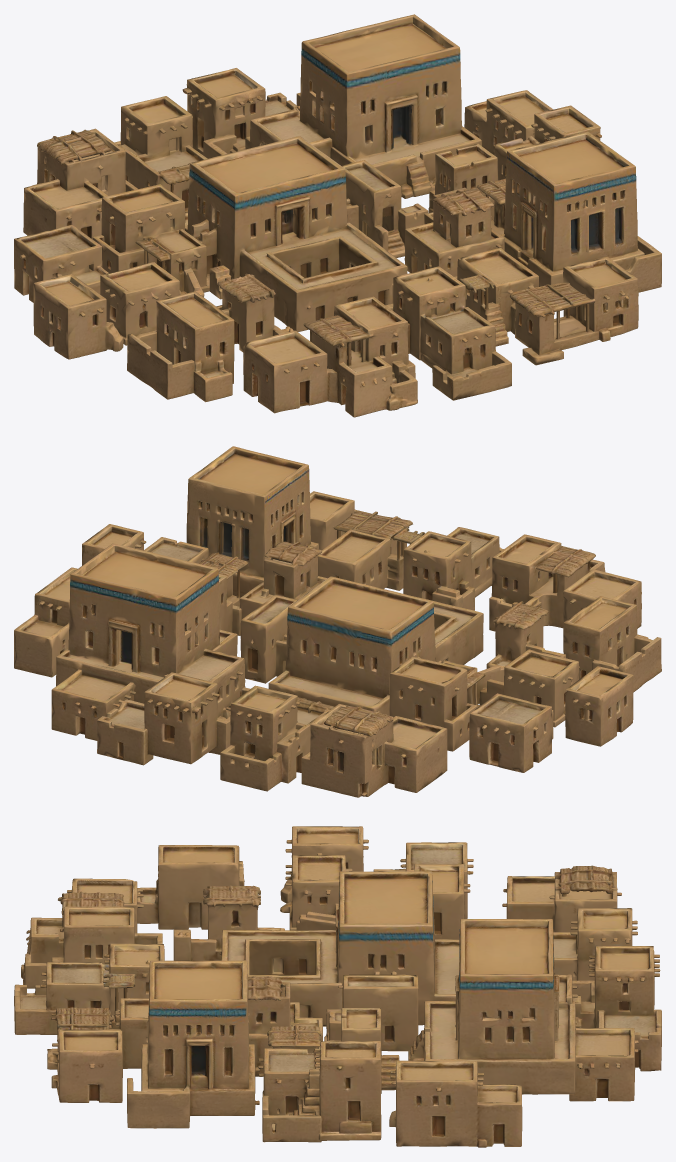
Rendered from Ancient Town (Middle Eastern).fbx.
The picture shows the model from 3 angles, top to bottom: view 1: azimuth 30°, elevation 25°; view 2: azimuth 150°, elevation 25°; view 3: azimuth 270°, elevation 25°; orthographic projection. The views are drawn at different scales.
Parts seen in each view (by area): view 1: tripo_node_df5f6336; view 2: tripo_node_df5f6336; view 3: tripo_node_df5f6336.
Boxes of the visible parts, bbox=[...] form: tripo_node_df5f6336: bbox=[14, 14, 661, 417]; tripo_node_df5f6336: bbox=[14, 446, 661, 797]; tripo_node_df5f6336: bbox=[14, 826, 661, 1147].
Size of the model in its own units: 1 by 0.2434 by 0.9917.
